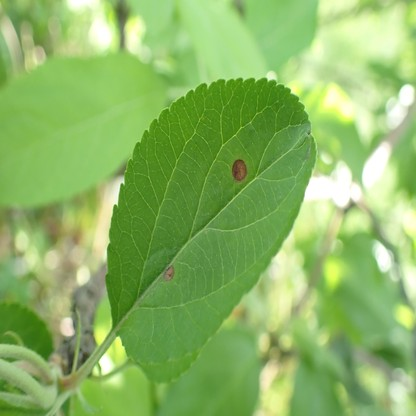frogeye_leaf_spot: (232, 161, 247, 180), (163, 263, 174, 281)
